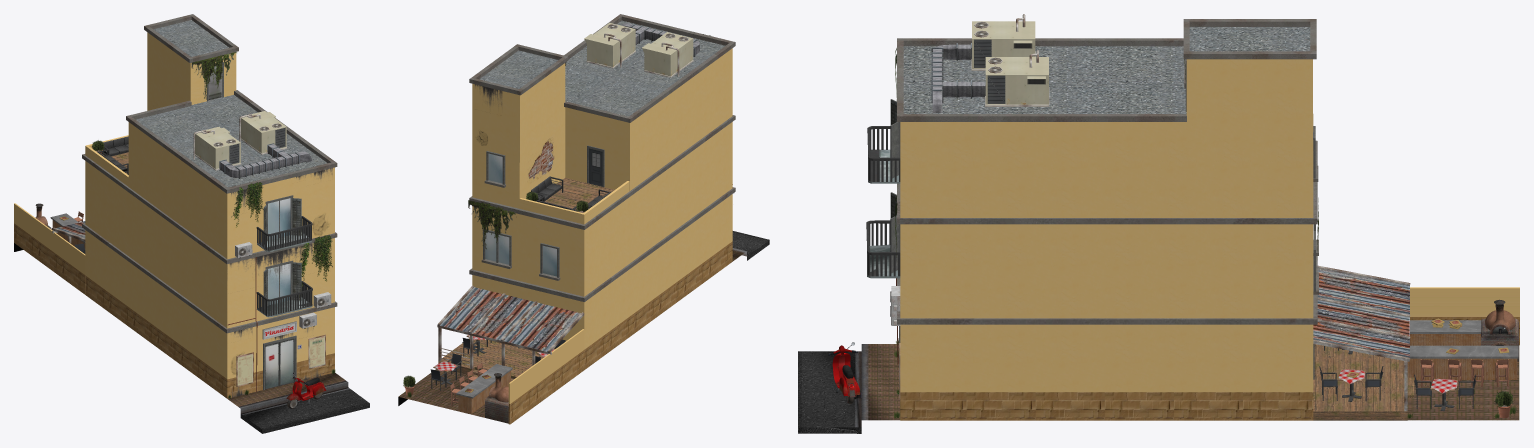
Rendered from rowhomes.glb.
3 views of the same model, side by side, from view 1: azimuth 30°, elevation 25°; view 2: azimuth 150°, elevation 25°; view 3: azimuth 270°, elevation 25° (orthographic). The views are drawn at different scales.
Parts seen in each view (by area): view 1: M_House, rooftop aircos, SM_Wall_Decals, SM_Table_group02, SM_AircoUnit, SM_Vespa; view 2: M_House, rooftop aircos, SM_Wall_Decals, SM_Table_group02, SM_PizzaOven, SM_Bush; view 3: M_House, rooftop aircos, SM_Table_group02, SM_PizzaOven, SM_Vespa.
Boxes of the visible parts, left/top/right/bottom form: M_House: left=14, top=14, right=369, bottom=433; rooftop aircos: left=97, top=111, right=312, bottom=178; SM_Wall_Decals: left=152, top=52, right=332, bottom=397; SM_Table_group02: left=75, top=216, right=312, bottom=317; SM_AircoUnit: left=235, top=242, right=331, bottom=328; SM_Vespa: left=286, top=372, right=326, bottom=408; M_House: left=398, top=14, right=769, bottom=424; rooftop aircos: left=530, top=22, right=699, bottom=211; SM_Wall_Decals: left=468, top=34, right=710, bottom=249; SM_Table_group02: left=430, top=335, right=565, bottom=390; SM_PizzaOven: left=485, top=373, right=508, bottom=423; SM_Bush: left=403, top=191, right=588, bottom=387; M_House: left=798, top=19, right=1519, bottom=433; rooftop aircos: left=931, top=14, right=1049, bottom=112; SM_Table_group02: left=866, top=126, right=1476, bottom=411; SM_PizzaOven: left=1481, top=299, right=1518, bottom=361; SM_Vespa: left=828, top=342, right=860, bottom=404.
Bounding box in the file's own units: 6.22 × 14.1 × 24.03.
29 materials, 28 textured.
